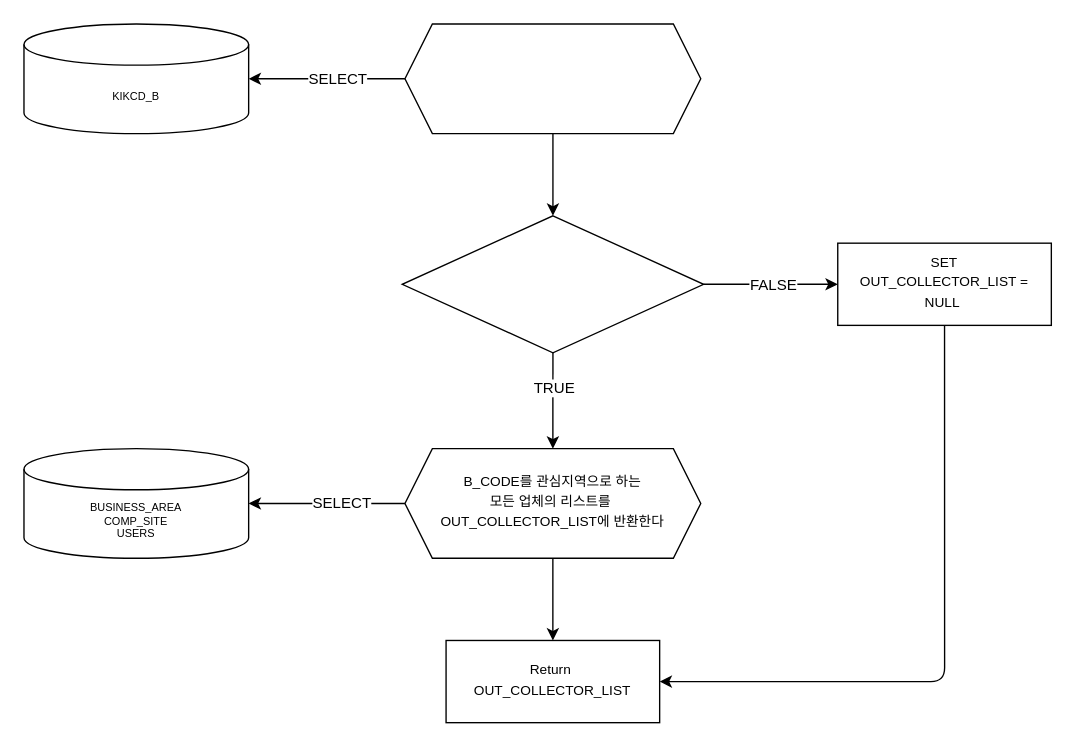
Some shapes in this 1075 by 747 pixel diagram are drawn without their labels. The shapes that lost their labels are listed below. From the top down, each one's centre as x and y in pixels, then its label:
(552,78): B_CODE가 존재하는지 검사한 후 그 값을 @BCODE_EXISTS에 반환한다
(552,283): B_CODE가 존재하는가? @BCODE_EXISTS= 1
